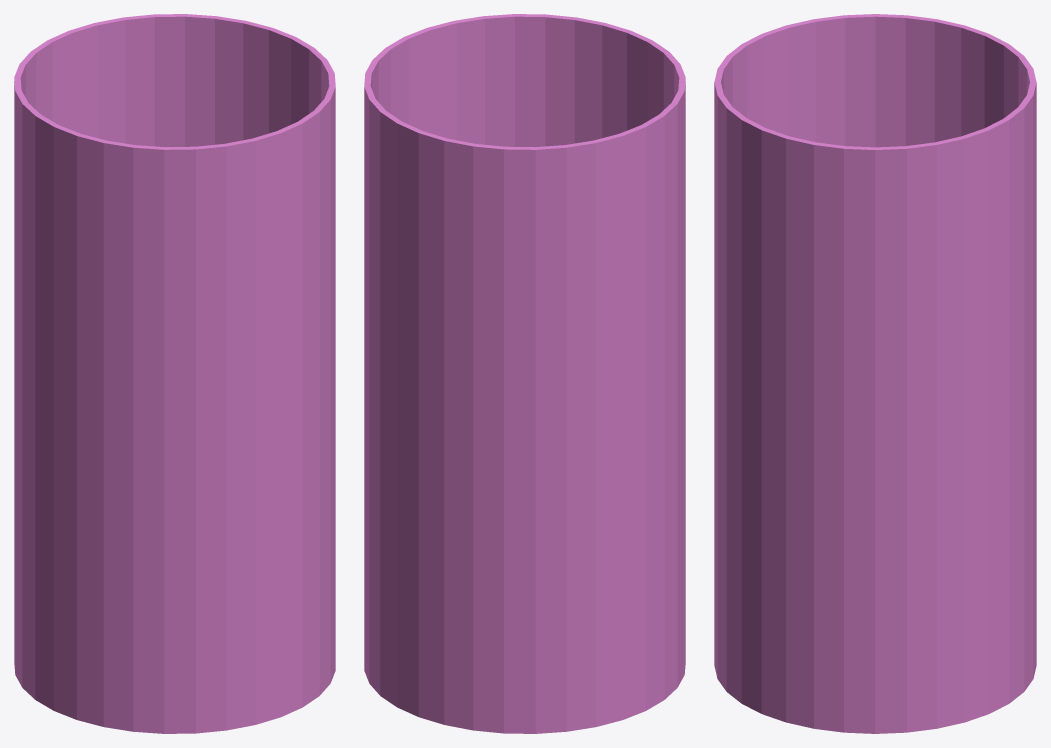
File: pink-pipe.glb
3 views of the same model, side by side, from view 1: azimuth 30°, elevation 25°; view 2: azimuth 150°, elevation 25°; view 3: azimuth 270°, elevation 25° (orthographic).
Parts seen in each view (by area): view 1: Cylinder; view 2: Cylinder; view 3: Cylinder.
Boxes of the visible parts, x1,y1,x2,y2 form: Cylinder: [14, 14, 335, 733]; Cylinder: [364, 14, 685, 733]; Cylinder: [714, 14, 1036, 733].
Size of the model in its own units: 1 by 2 by 1.
